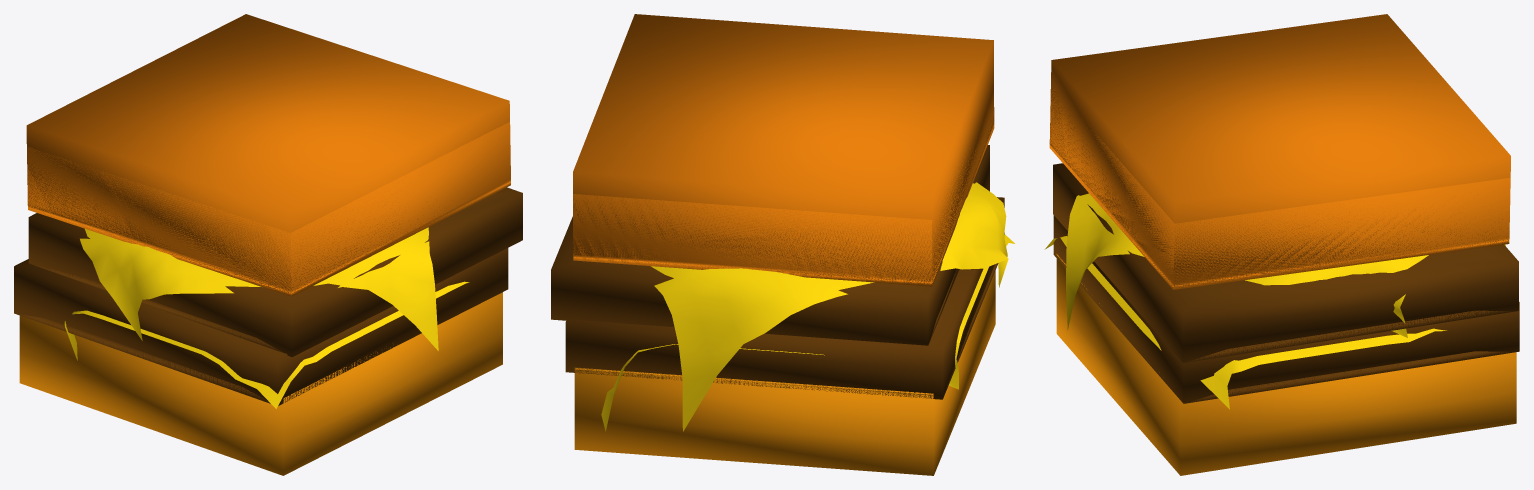
The model's file is hamburger.glb.
The picture shows the model from 3 angles, left to right: view 1: azimuth 30°, elevation 25°; view 2: azimuth 150°, elevation 25°; view 3: azimuth 270°, elevation 25°; orthographic projection. The views are drawn at different scales.
Visible parts, largest first — view 1: Cube.001, Cube, Cube.002, Cube.003, Plane.001, Plane; view 2: Cube.001, Cube, Cube.002, Plane.001, Cube.003, Plane; view 3: Cube.001, Cube, Cube.003, Cube.002, Plane.001, Plane.
Part boxes in pixels (x1,y1,x2,y2): Cube.001: (26, 14, 510, 296); Cube: (19, 292, 502, 475); Cube.002: (14, 248, 508, 405); Cube.003: (28, 187, 522, 357); Plane.001: (80, 227, 438, 350); Plane: (64, 281, 469, 408); Cube.001: (573, 14, 994, 286); Cube: (574, 271, 995, 475); Cube.002: (565, 197, 1004, 399); Plane.001: (650, 182, 1008, 431); Cube.003: (551, 145, 989, 345); Plane: (601, 234, 1014, 431); Cube.001: (1049, 14, 1510, 289); Cube: (1056, 253, 1516, 475); Cube.003: (1053, 163, 1518, 363); Cube.002: (1053, 215, 1519, 403); Plane.001: (1066, 193, 1505, 337); Plane: (1044, 236, 1446, 409).
Bounding box in the file's own units: 11.1 × 6.77 × 10.57.
